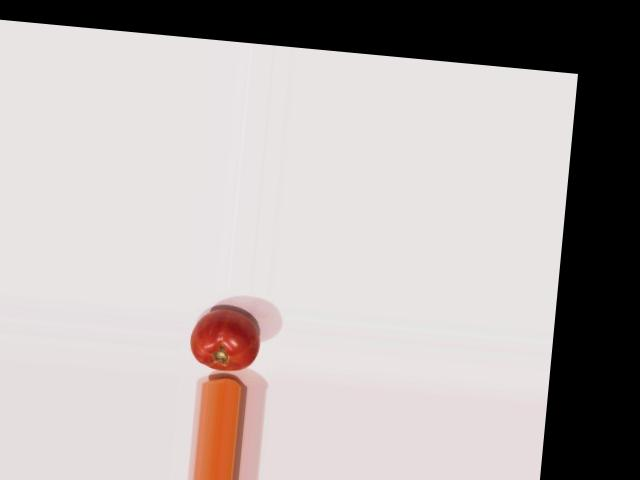tomato: (187, 306, 261, 372)
